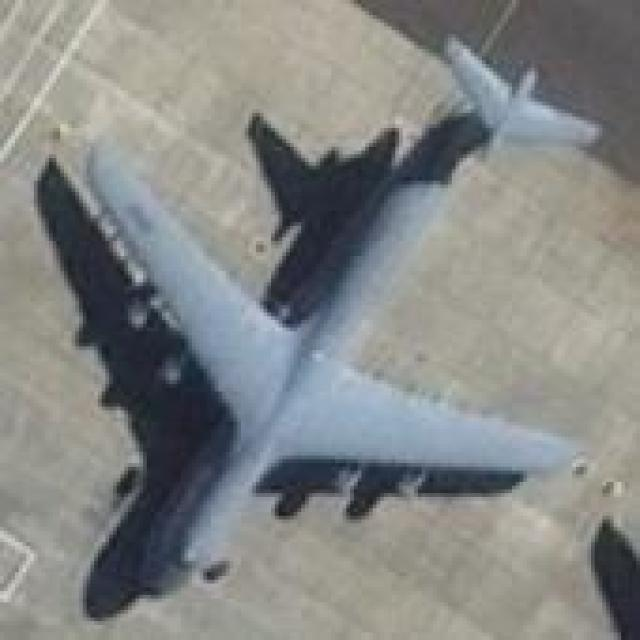C-5_TopDown: (22, 27, 598, 618)
